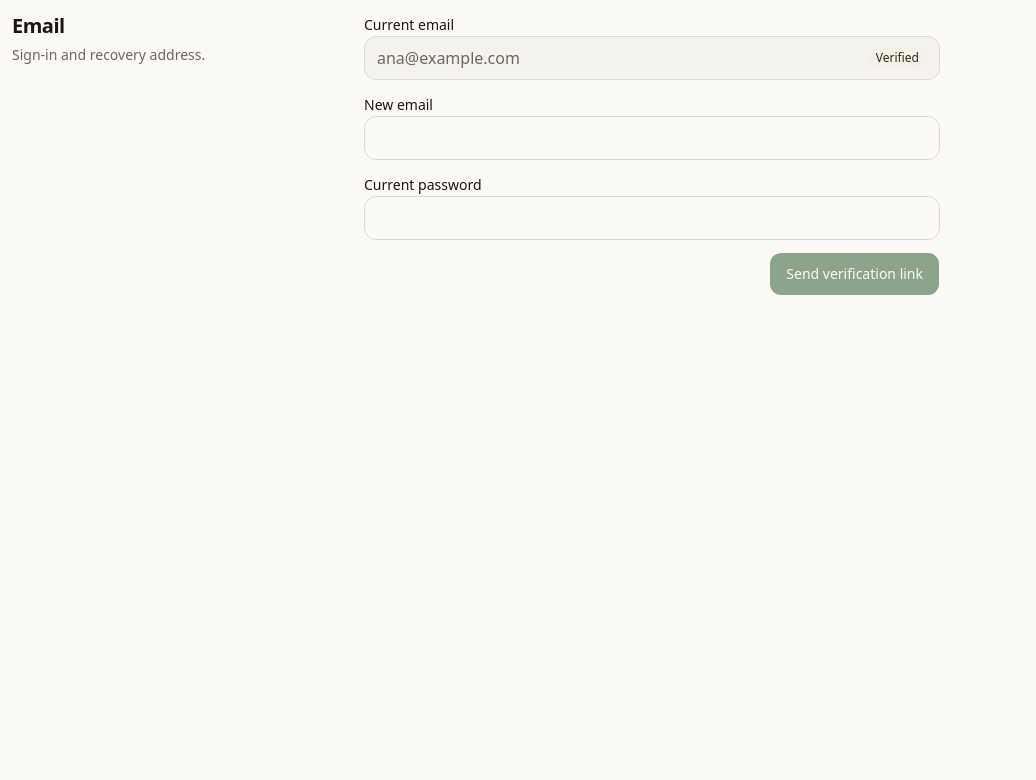
Test: sends once with the normalized email and the untrimmed password, announces it in a toast and clears both fields
In the field labelled "New email": (652, 138) left=364, top=116, right=940, bottom=160, type " Ana.New@Example.com "
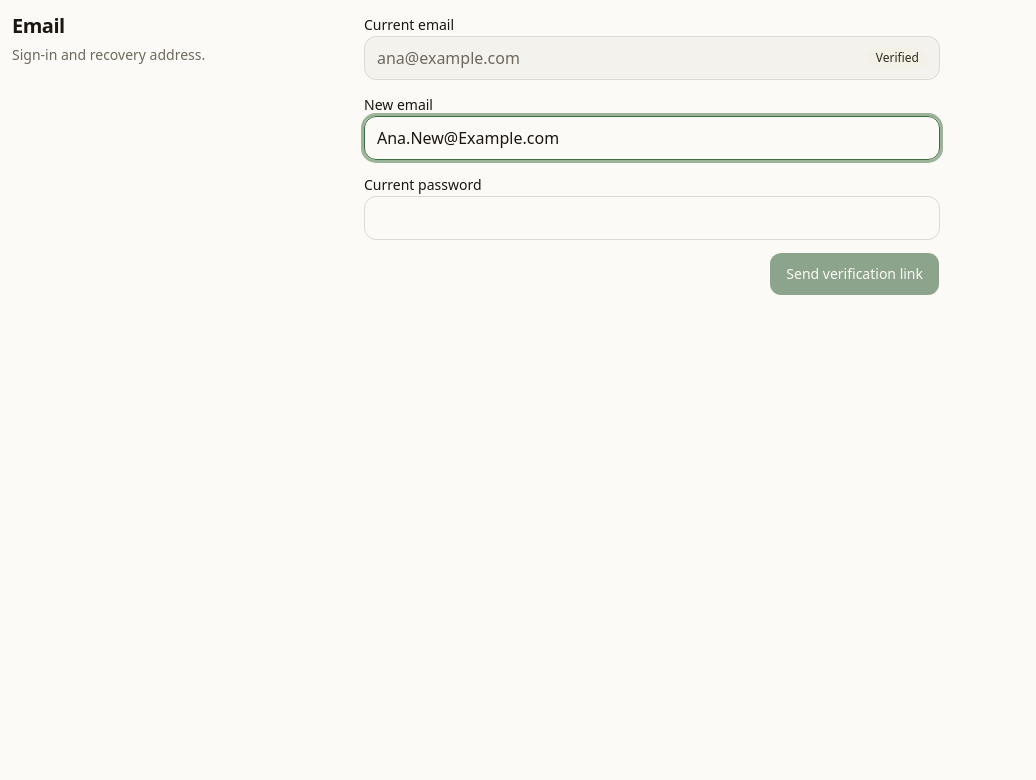
In the password field labelled "Current password": (652, 218) left=364, top=196, right=940, bottom=240, type " old password "
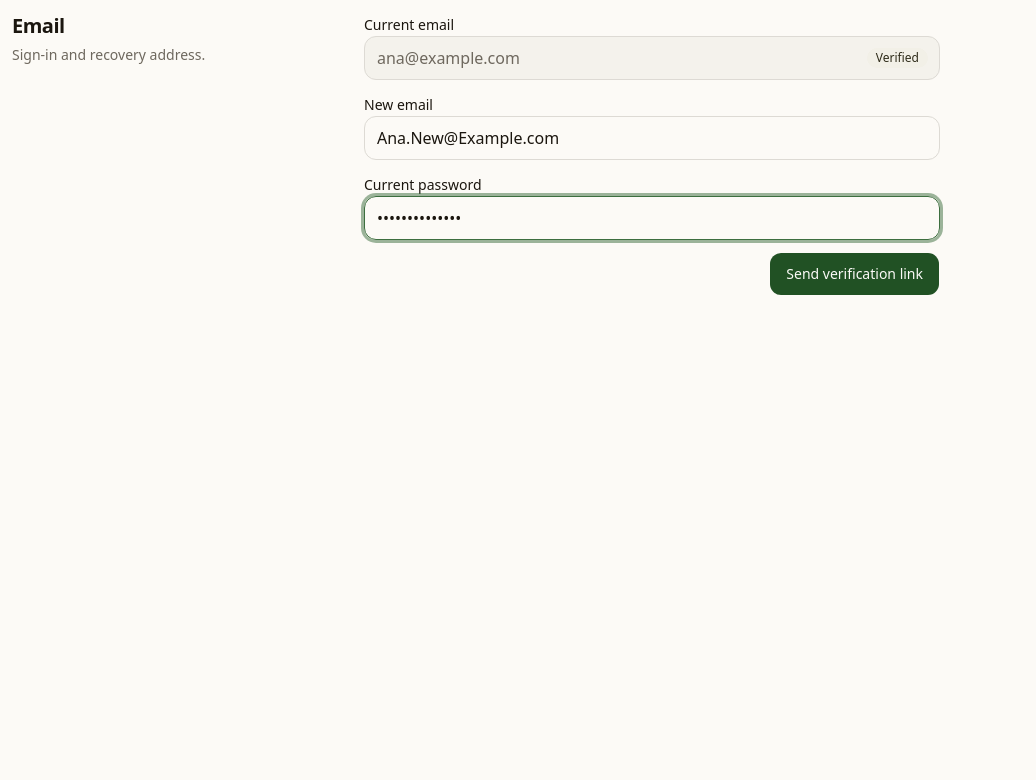
Press Enter
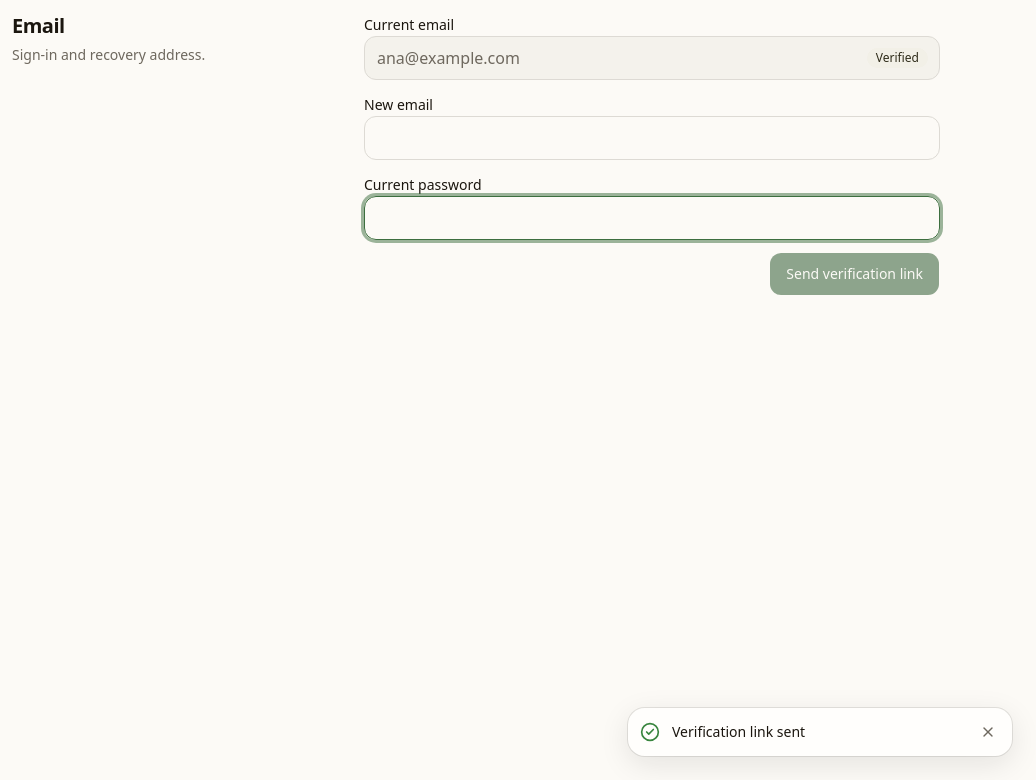
expect the heading "Verification link sent" is shown: met, box left=672, top=722, right=805, bottom=741
expect the field labelled "New email" is empty: met, box left=364, top=116, right=940, bottom=160
expect the password field labelled "Current password" is empty: met, box left=364, top=196, right=940, bottom=240
